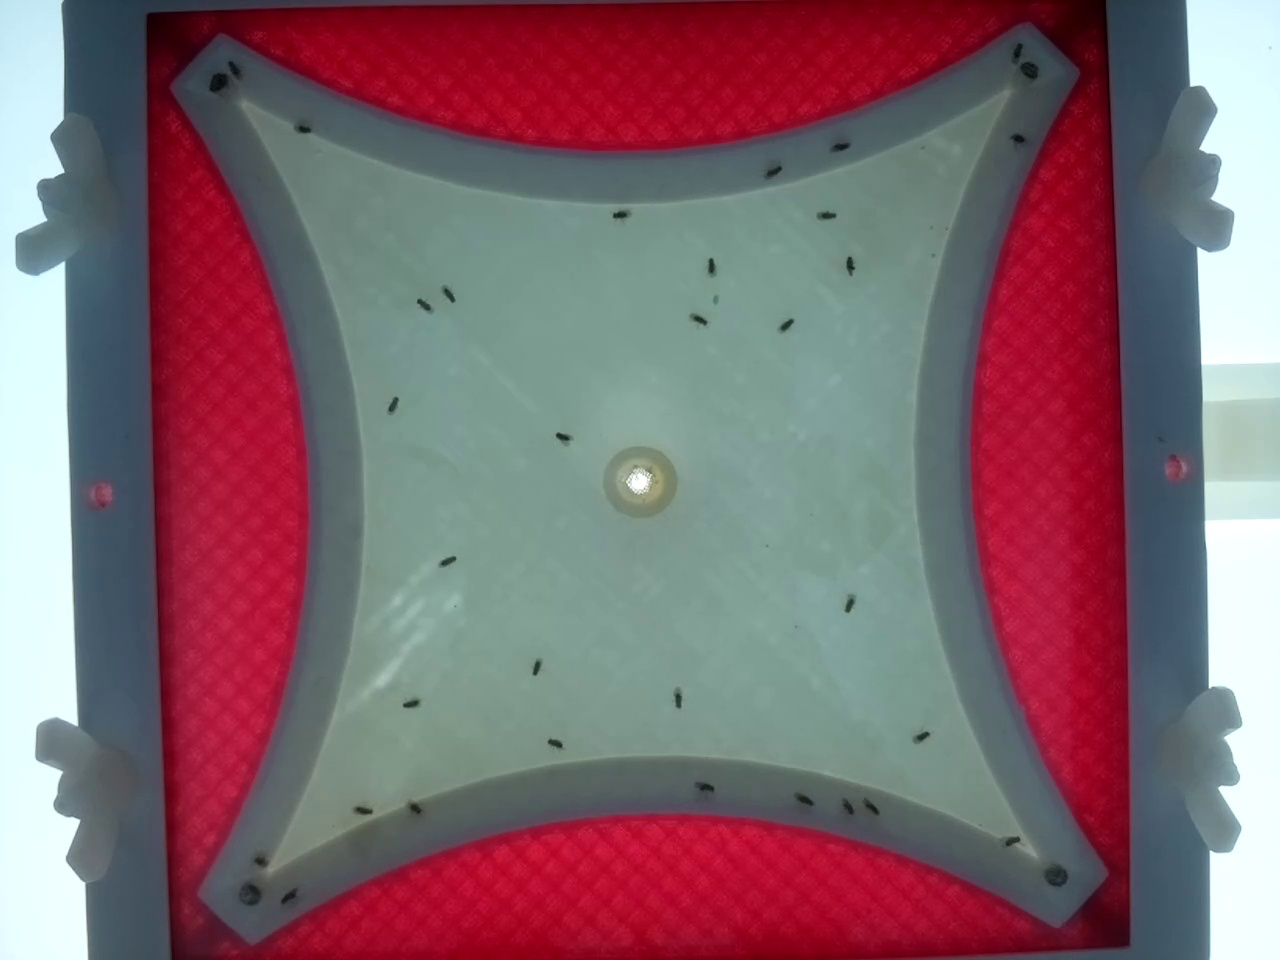fly: (1006, 124, 1031, 149), (834, 130, 859, 155), (836, 252, 861, 277), (608, 202, 633, 227), (290, 115, 315, 140), (773, 313, 798, 338), (380, 392, 405, 417), (550, 424, 575, 449), (837, 593, 862, 618), (665, 690, 690, 715), (908, 724, 933, 749), (542, 730, 567, 755), (403, 796, 428, 821), (399, 690, 424, 715), (796, 789, 821, 814), (835, 794, 860, 819), (861, 797, 886, 822), (349, 797, 374, 822), (246, 847, 271, 872), (997, 829, 1022, 854), (219, 55, 244, 80), (1005, 36, 1030, 61), (761, 158, 786, 183), (412, 292, 437, 317), (699, 254, 724, 279), (687, 308, 712, 333), (434, 548, 459, 573), (524, 655, 549, 680), (275, 885, 300, 910), (239, 875, 264, 899), (814, 202, 839, 227), (436, 282, 461, 307), (691, 774, 716, 799)
